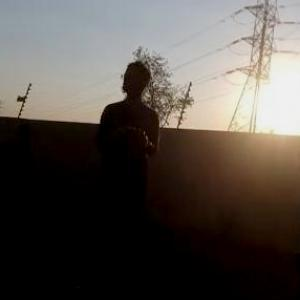follow: (72, 55, 164, 286)
